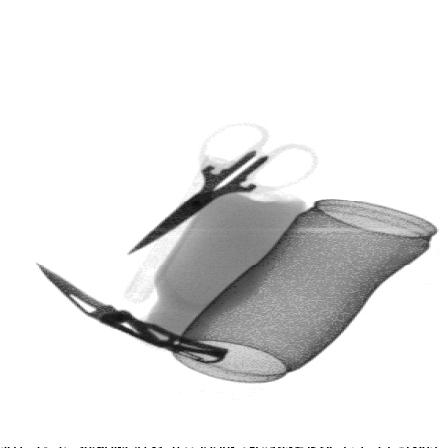Knife: (34, 261, 231, 365)
Scissors: (124, 121, 318, 255)
